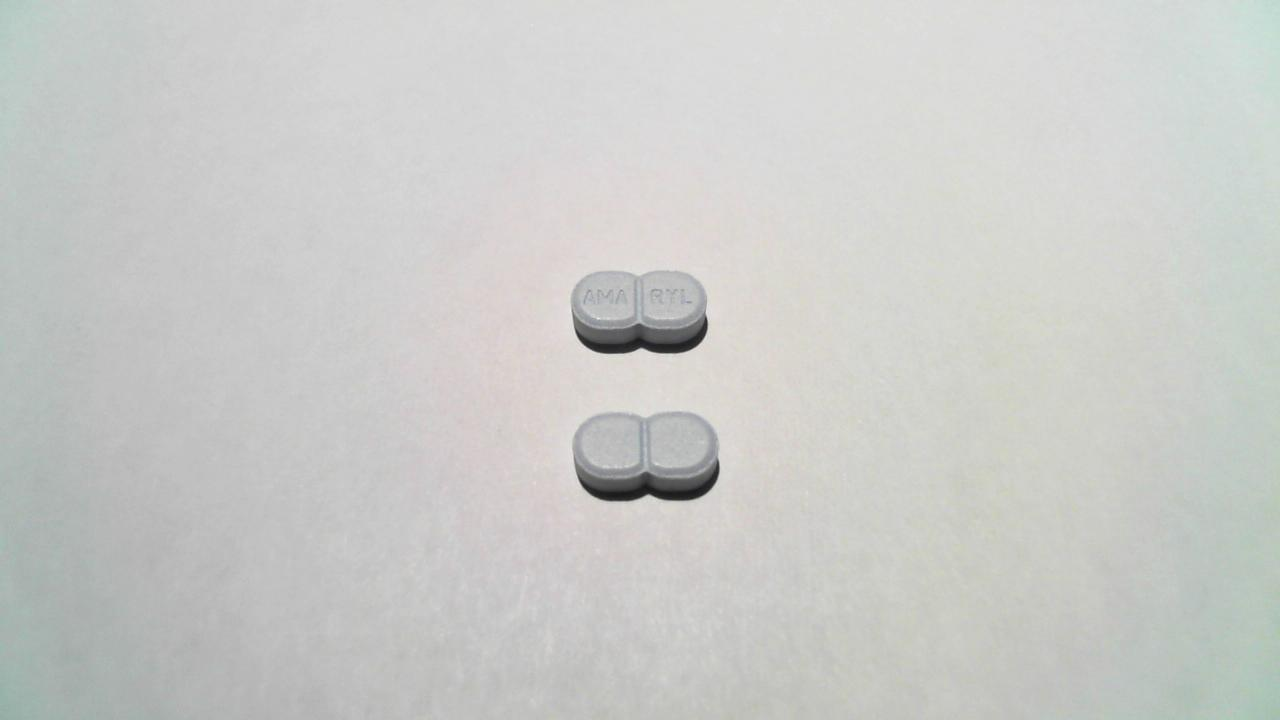Pill: (556, 254, 719, 359), (566, 401, 730, 505)
